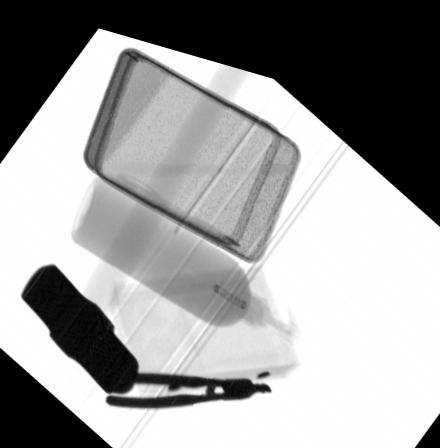Hammer: (19, 51, 250, 387)
Pliers: (103, 363, 272, 401)
